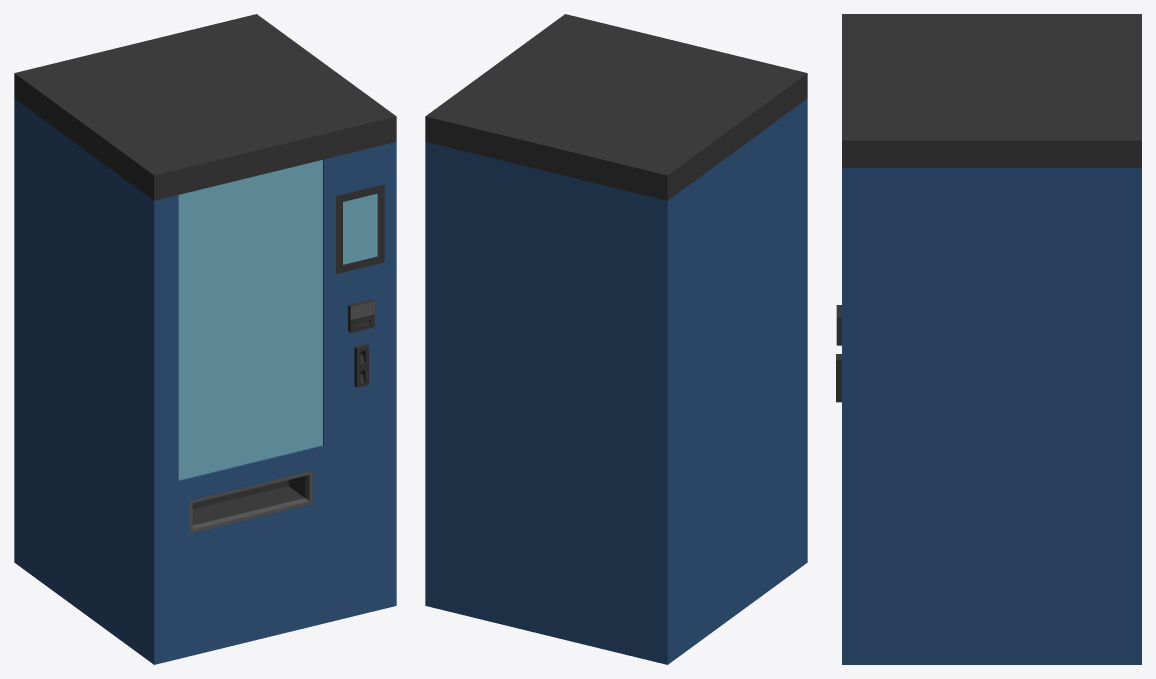
Rendered from SM_Props_VendingMachine_03.fbx.
3 views of the same model, side by side, from view 1: azimuth 30°, elevation 25°; view 2: azimuth 150°, elevation 25°; view 3: azimuth 270°, elevation 25° (orthographic). The views are drawn at different scales.
Visible parts, largest first — view 1: SM_Props_VendingMachine_03; view 2: SM_Props_VendingMachine_03; view 3: SM_Props_VendingMachine_03.
Part boxes in pixels (box(x1,y1,x2,y2)): SM_Props_VendingMachine_03: box(14, 14, 396, 664); SM_Props_VendingMachine_03: box(425, 14, 807, 664); SM_Props_VendingMachine_03: box(836, 14, 1141, 664).
Bounding box in the file's own units: 1 × 1.93 × 1.02.
